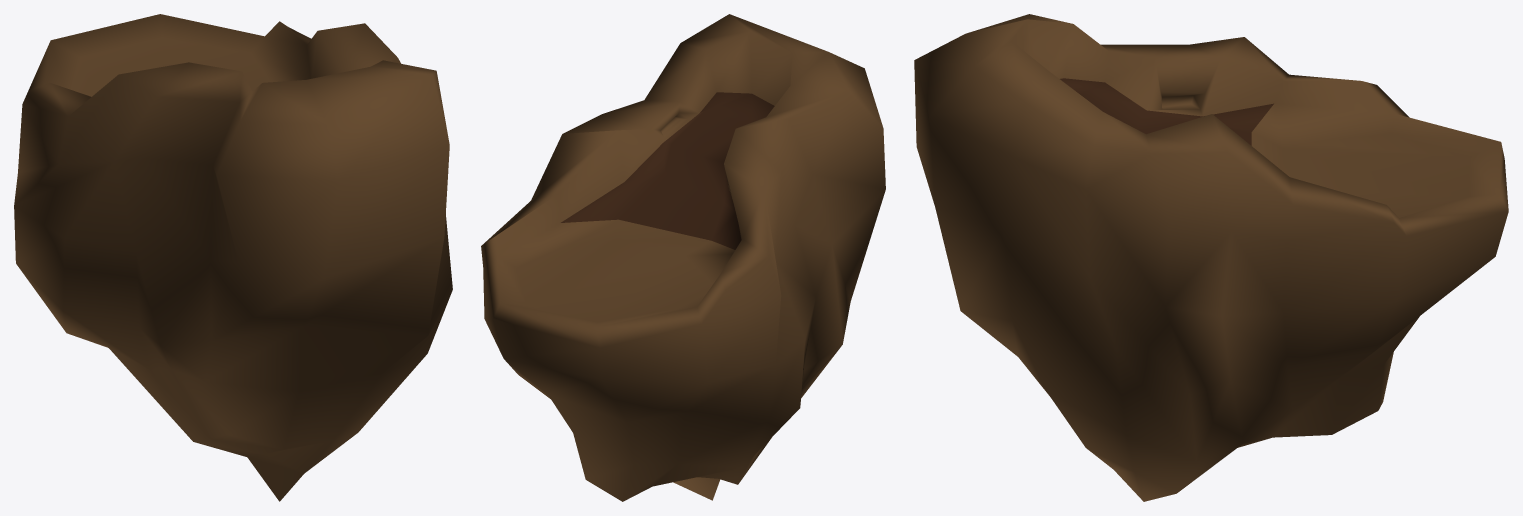
File: BigIsland.fbx
The picture shows the model from 3 angles, left to right: view 1: azimuth 30°, elevation 25°; view 2: azimuth 150°, elevation 25°; view 3: azimuth 270°, elevation 25°; orthographic projection. The views are drawn at different scales.
Visible parts, largest first — view 1: island2; view 2: island2; view 3: island2.
Boxes of the visible parts, x1=… form: island2: x1=14, y1=14, x2=452, y2=501; island2: x1=481, y1=14, x2=885, y2=501; island2: x1=914, y1=14, x2=1508, y2=501.
Size of the model in its own units: 4.81 by 6.59 by 7.51.
